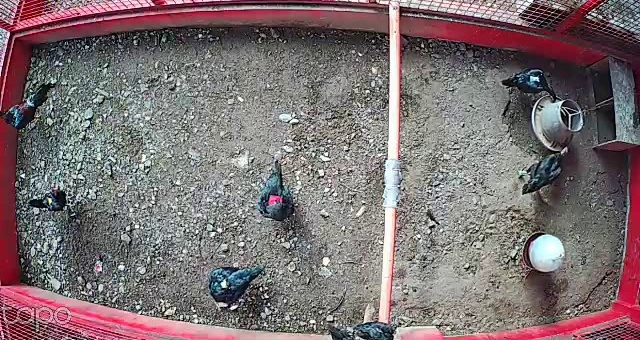Chicken: (250, 154, 303, 226), (205, 262, 268, 308), (516, 142, 568, 196), (501, 61, 557, 106), (23, 181, 78, 218), (327, 319, 398, 340)
Rooster: (0, 79, 60, 133)
Saddle_Color_Red: (269, 194, 282, 205)
Saddle_Color_Yellow: (46, 195, 54, 207)
